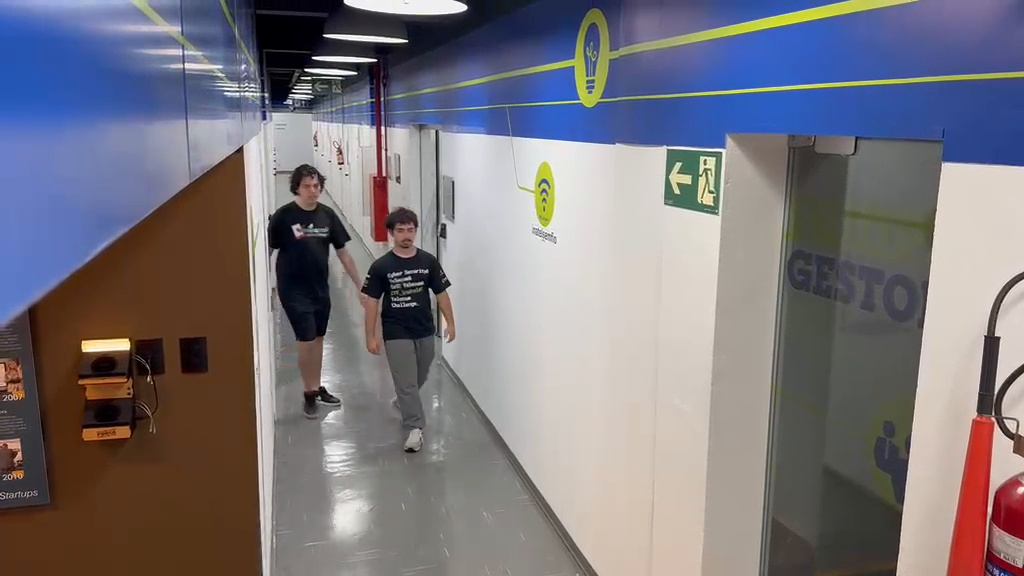person: (359, 206, 456, 456), (269, 165, 360, 417)
